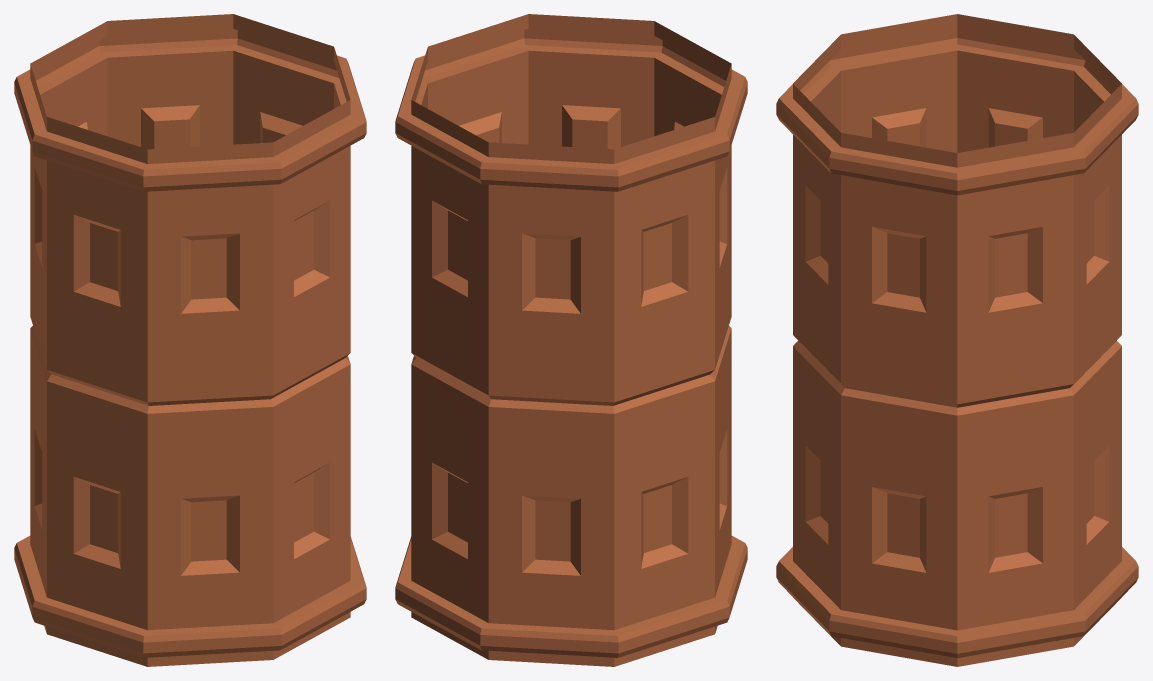
File: SM_tower_octasided_01.fbx
The picture shows the model from 3 angles, left to right: view 1: azimuth 30°, elevation 25°; view 2: azimuth 150°, elevation 25°; view 3: azimuth 270°, elevation 25°; orthographic projection.
Visible parts, largest first — view 1: tower_octasided_01; view 2: tower_octasided_01; view 3: tower_octasided_01.
Boxes of the visible parts, x1=… form: tower_octasided_01: x1=14, y1=14, x2=366, y2=666; tower_octasided_01: x1=395, y1=14, x2=747, y2=666; tower_octasided_01: x1=776, y1=14, x2=1138, y2=666.
Bounding box in the file's own units: 250 × 392 × 250.
